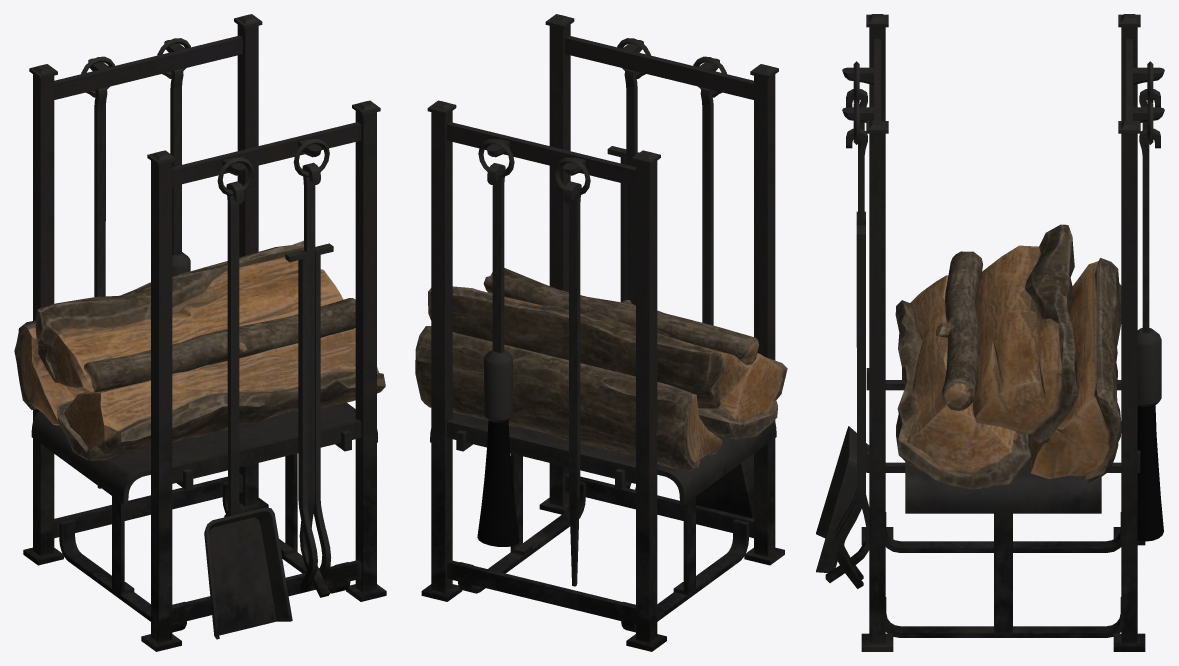
Rendered from fireplace-tools-a.glb.
3 renders of one model, left to right at view 1: azimuth 30°, elevation 25°; view 2: azimuth 150°, elevation 25°; view 3: azimuth 270°, elevation 25°, orthographic. The views are drawn at different scales.
Visible parts, largest first — view 1: fireplace-tools-a; view 2: fireplace-tools-a; view 3: fireplace-tools-a.
Boxes of the visible parts, x1,y1,x2,y2 form: fireplace-tools-a: (14,14,386,651); fireplace-tools-a: (415,14,787,651); fireplace-tools-a: (816,14,1164,651).
Size of the model in its own units: 0.4683 by 0.75 by 0.4538.
Materials: 2 (2 with a texture image).
